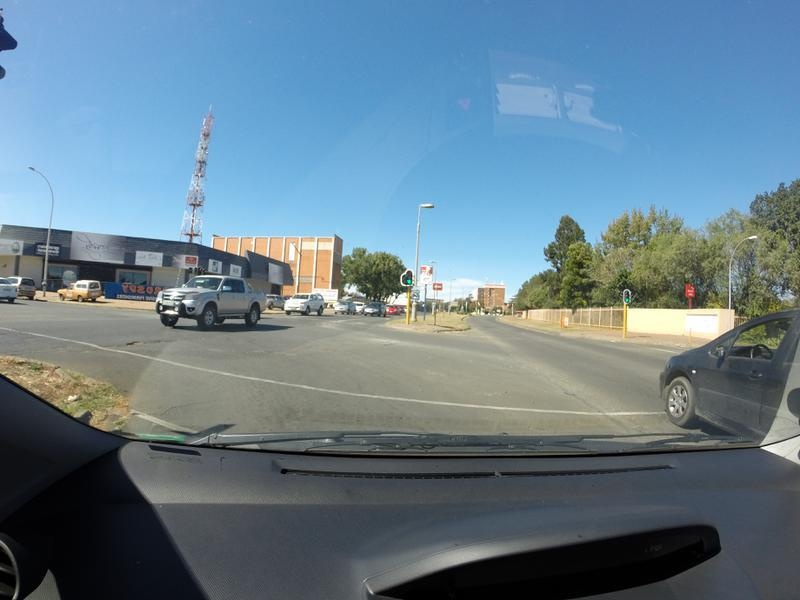pothole: (110, 335, 161, 346)
